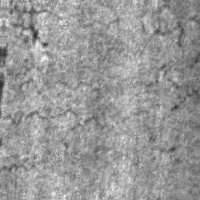crazing: (3, 56, 199, 130), (140, 1, 198, 51), (2, 1, 70, 43)
